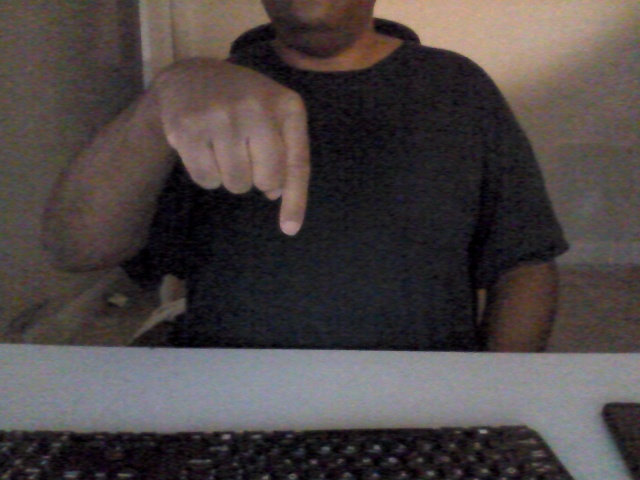down: (146, 57, 326, 248)
